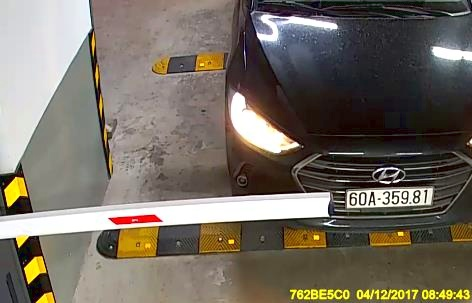plate: (348, 188, 433, 206)
